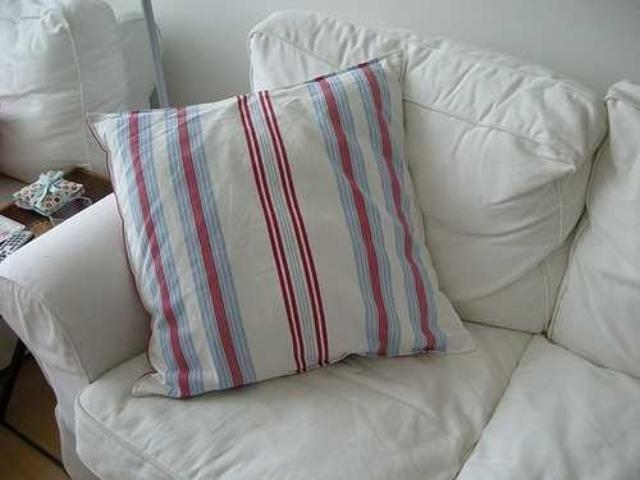pillow: (84, 47, 476, 399)
